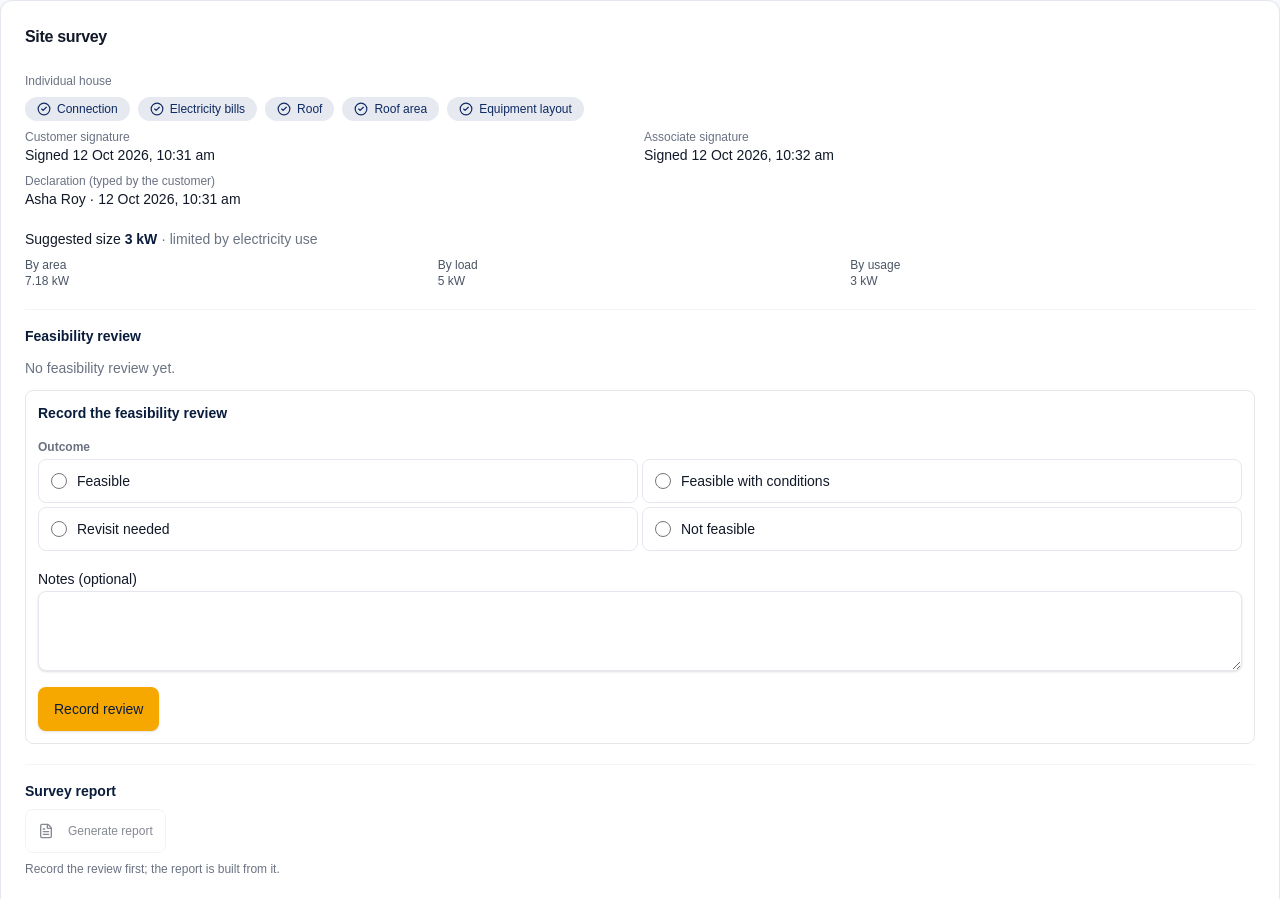
SurveyPanel — review form conditional requirements › not_feasible needs notes
The width and height of the screenshot is (1280, 899).
Click the radio button labelled "Not feasible". click: [663, 529]
box: [655, 521, 671, 537]
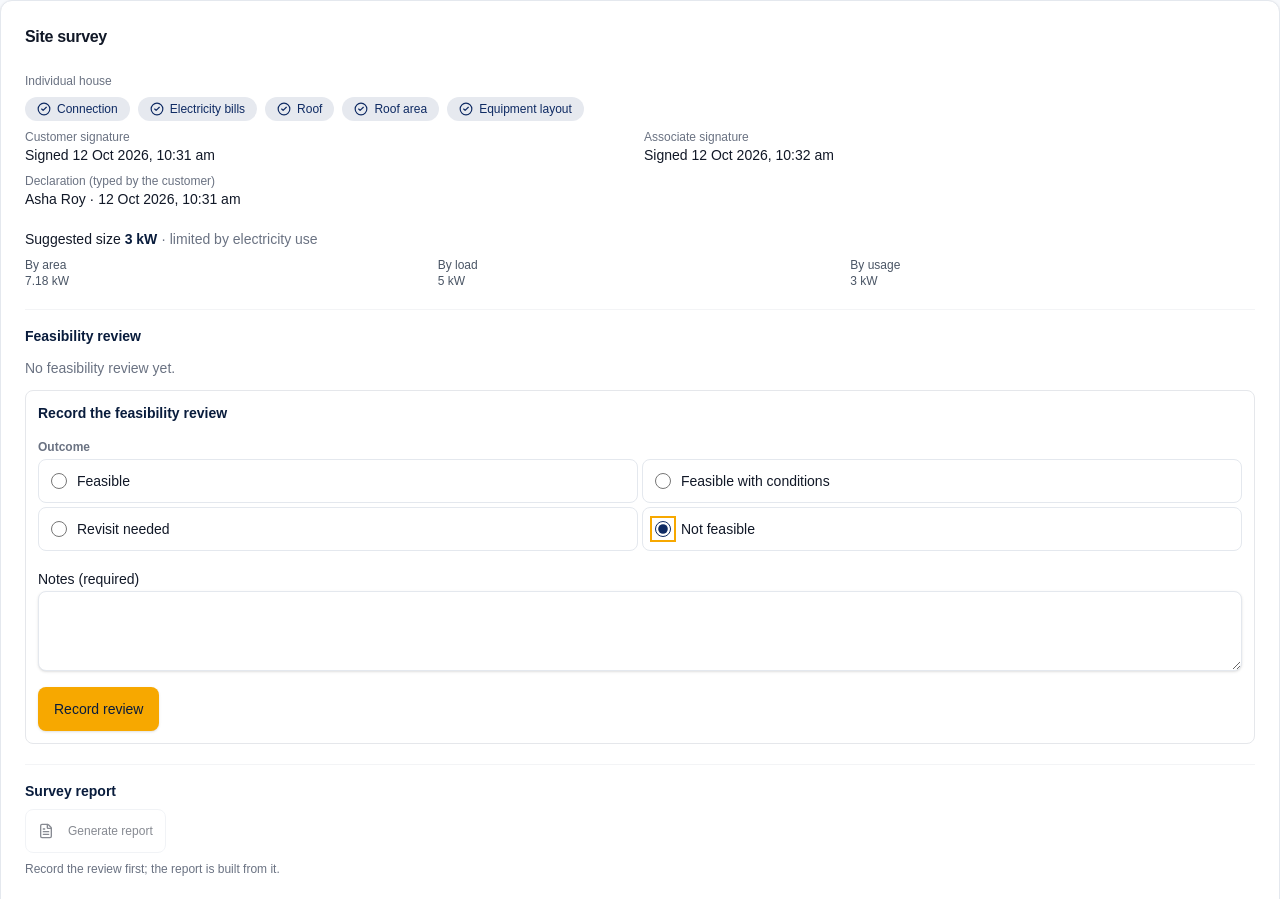
Click the button "Record review". click: [99, 709]
box: [38, 687, 160, 731]
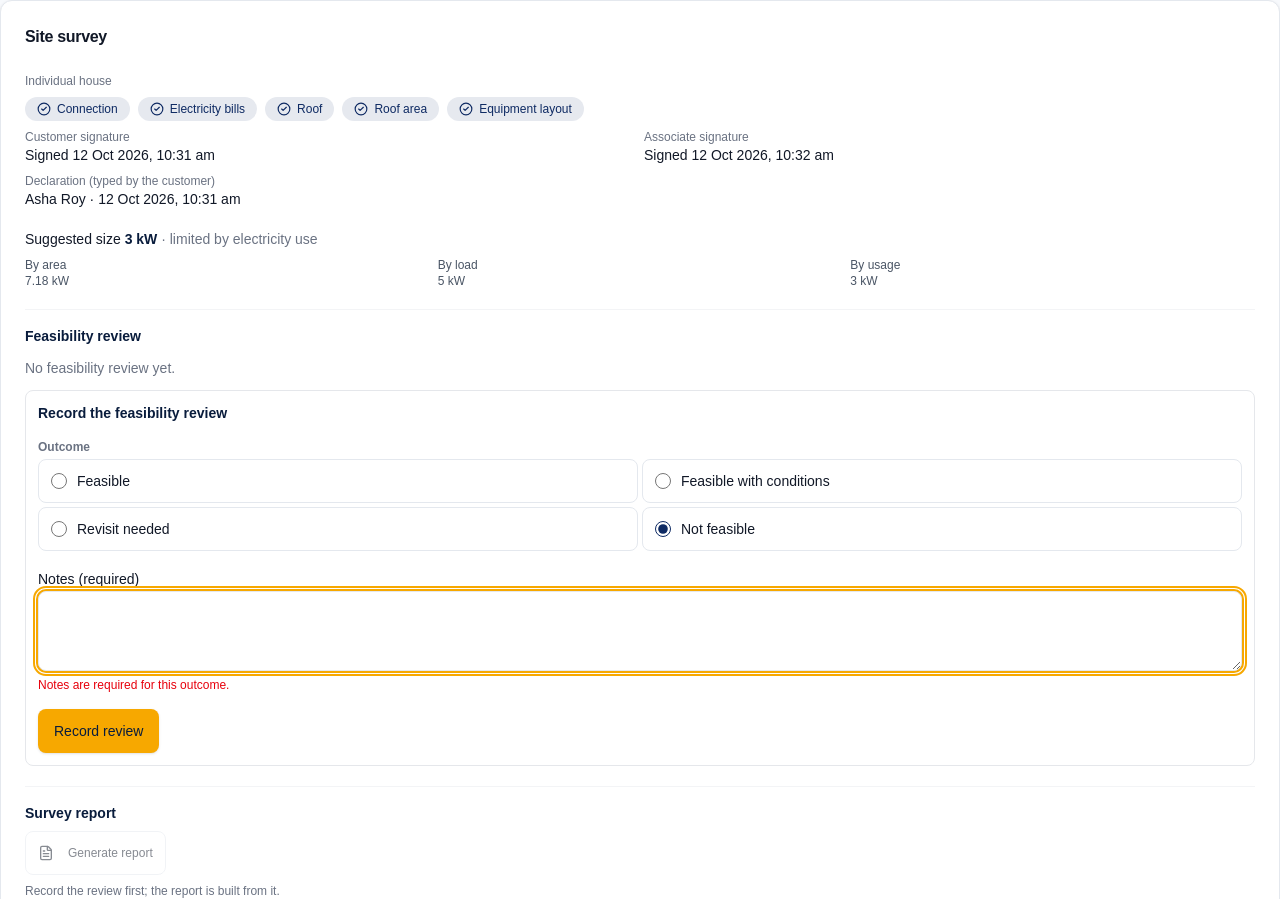
Result: the text "Notes are required for this outcome." is shown at [38, 678, 229, 692]
